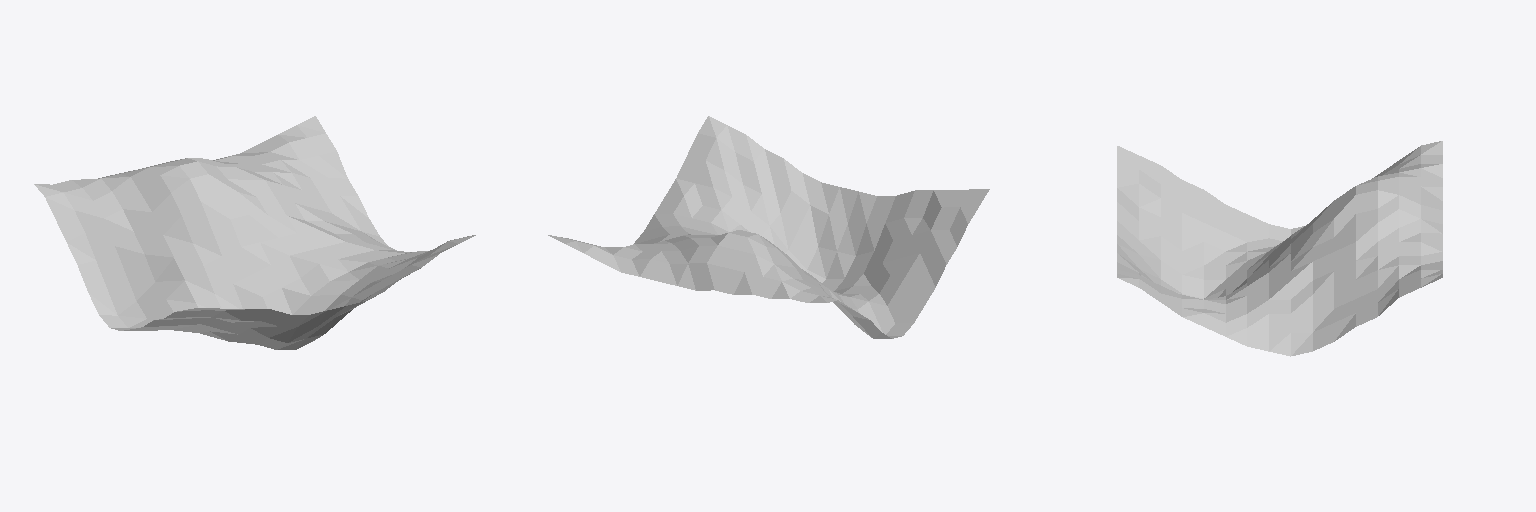
File: map.obj
The picture shows the model from 3 angles: view 1: azimuth 30°, elevation 25°; view 2: azimuth 150°, elevation 25°; view 3: azimuth 270°, elevation 25°; orthographic projection.
Parts seen in each view (by area): view 1: Map3D; view 2: Map3D; view 3: Map3D.
Boxes of the visible parts, <box> form: Map3D: <box>34,116,475,349</box>; Map3D: <box>548,116,989,338</box>; Map3D: <box>1117,141,1442,356</box>.
Size of the model in its own units: 15 by 6.25 by 15.